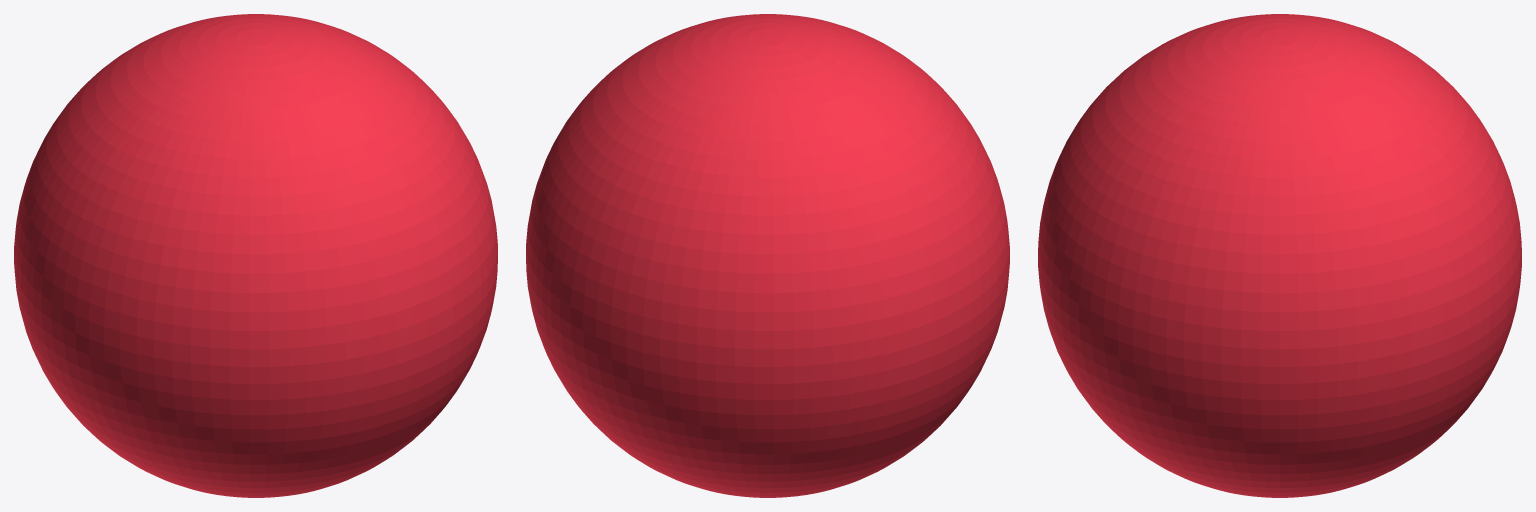
The model's file is ball_red.dae.
The picture shows the model from 3 angles, left to right: view 1: azimuth 30°, elevation 25°; view 2: azimuth 150°, elevation 25°; view 3: azimuth 270°, elevation 25°; orthographic projection.
Parts seen in each view (by area): view 1: Abu2024_field - Ball_blue-1; view 2: Abu2024_field - Ball_blue-1; view 3: Abu2024_field - Ball_blue-1.
Part boxes in pixels (x1,y1,x2,y2): Abu2024_field - Ball_blue-1: [14, 14, 497, 497]; Abu2024_field - Ball_blue-1: [526, 14, 1009, 497]; Abu2024_field - Ball_blue-1: [1038, 14, 1521, 497].
Size of the model in its own units: 0.1898 by 0.1898 by 0.19.
